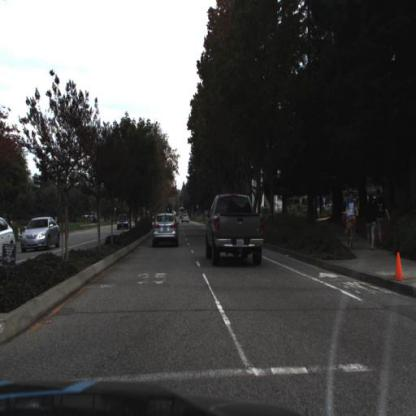biker: (343, 193, 361, 249)
car: (204, 190, 269, 271), (21, 215, 61, 253), (153, 211, 179, 249), (116, 210, 132, 231)
pedestrian: (374, 188, 391, 248), (368, 193, 378, 250)
